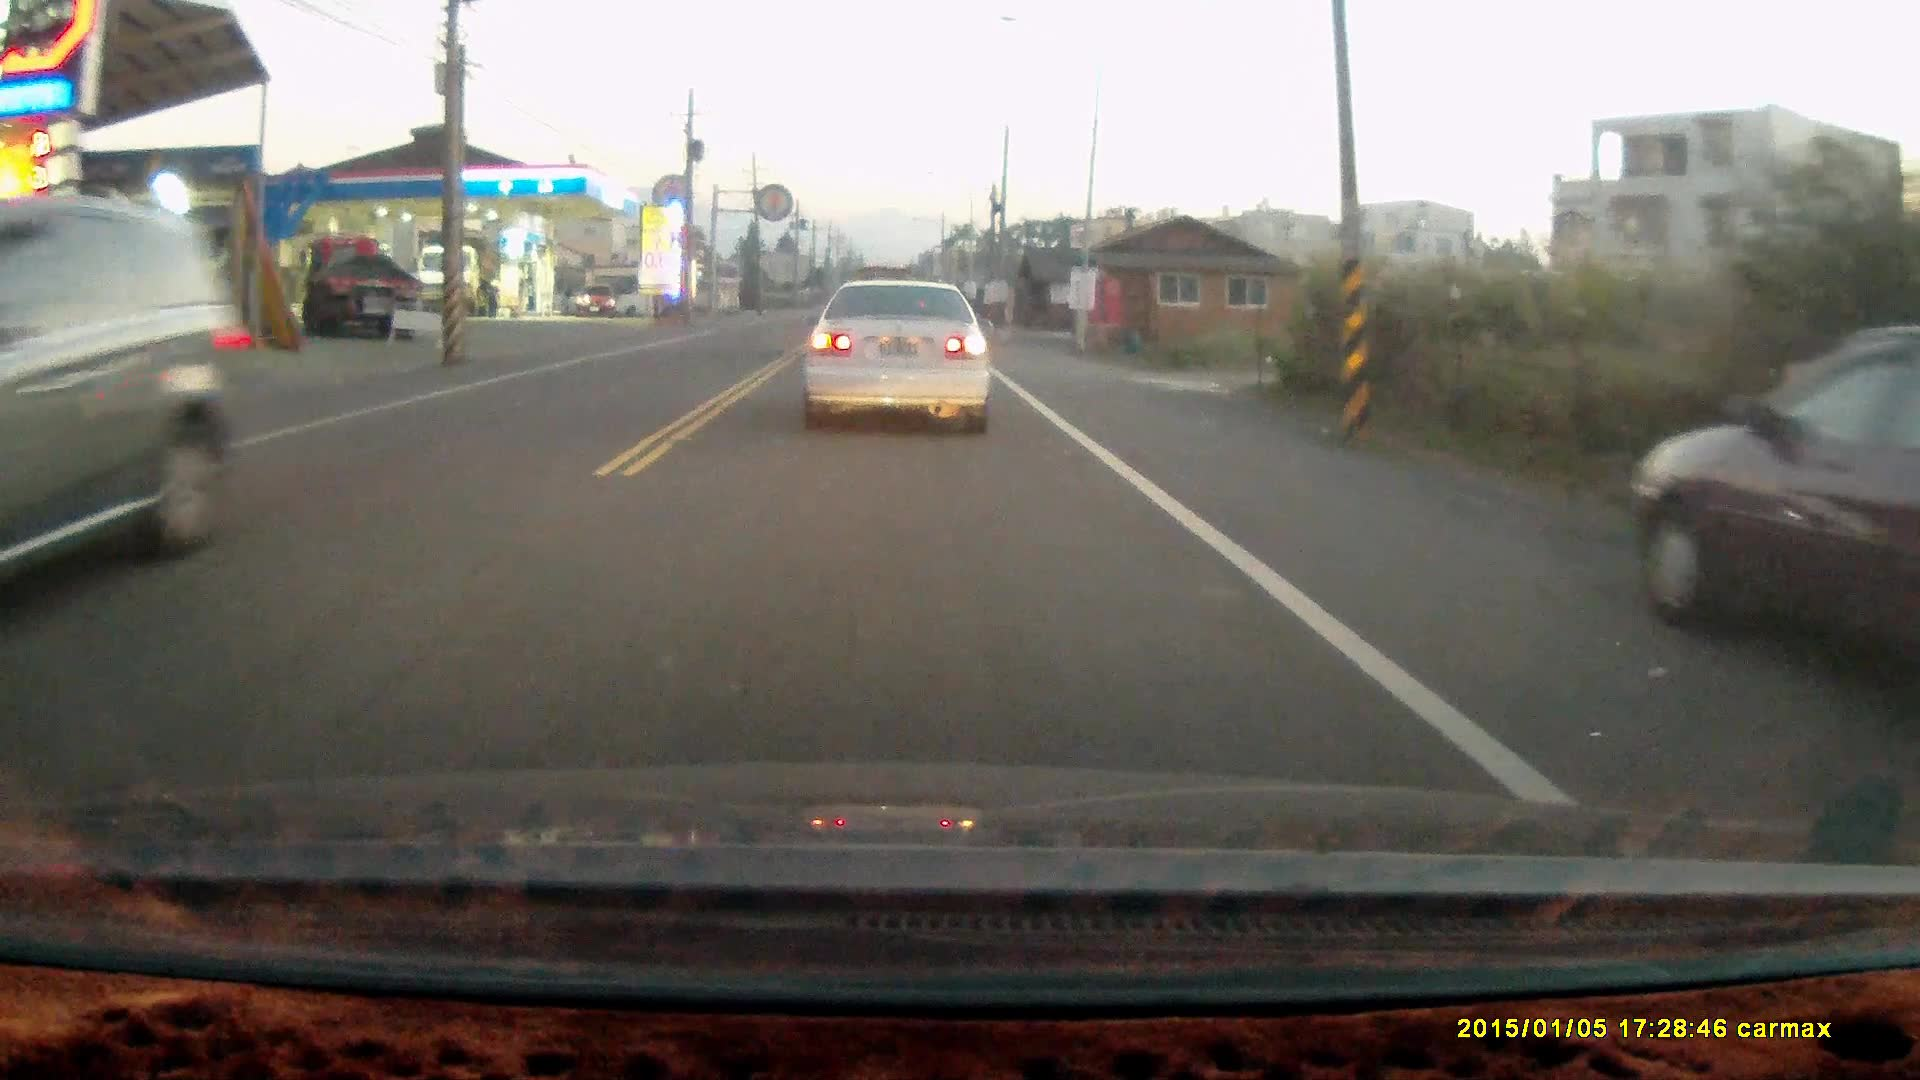pedestrian: (483, 272, 503, 315)
vehicle: (1631, 338, 1920, 727), (1, 207, 238, 616), (796, 282, 995, 442), (298, 234, 423, 343), (408, 236, 493, 320), (577, 286, 619, 320)
